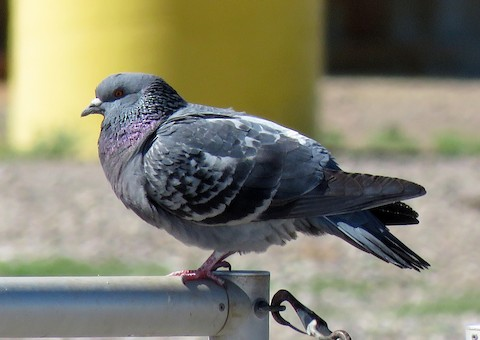pigeon: (78, 66, 443, 288)
